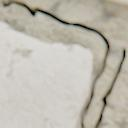brick: (0, 24, 92, 127), (104, 0, 127, 7)
crack: (0, 0, 110, 127), (92, 48, 126, 127)
